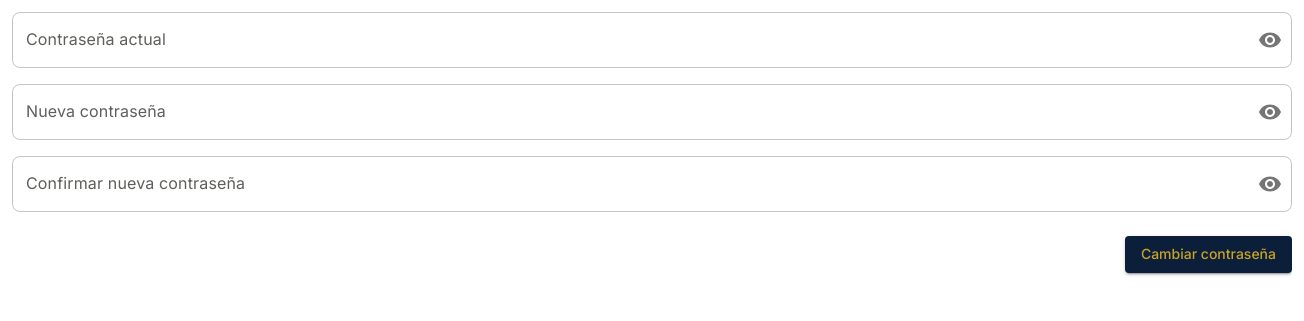
Scenario: ChangePasswordForm › form submission validation › should show validation error when new password is less than 8 characters
Type "OldPass123" into the password field labelled "Contraseña actual". click: (627, 40)
box: [12, 12, 1242, 68]
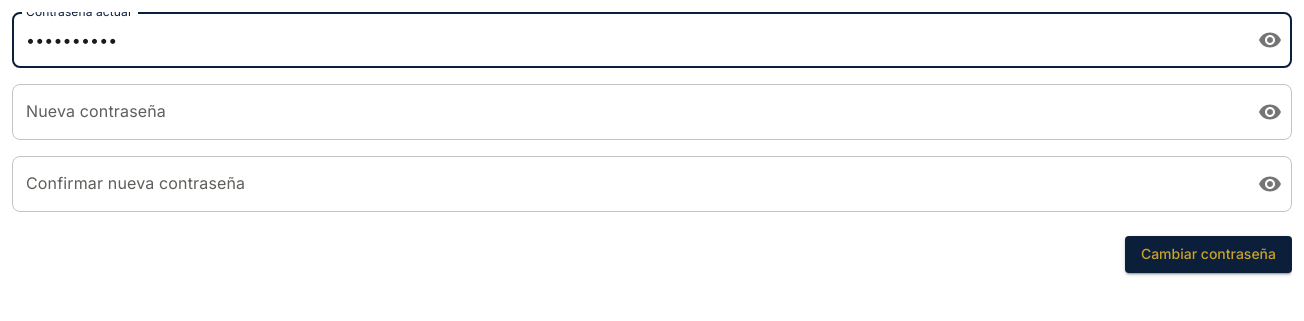
Type "Short1" into the password field labelled "Nueva contraseña". click: (627, 112)
box: [12, 84, 1242, 140]
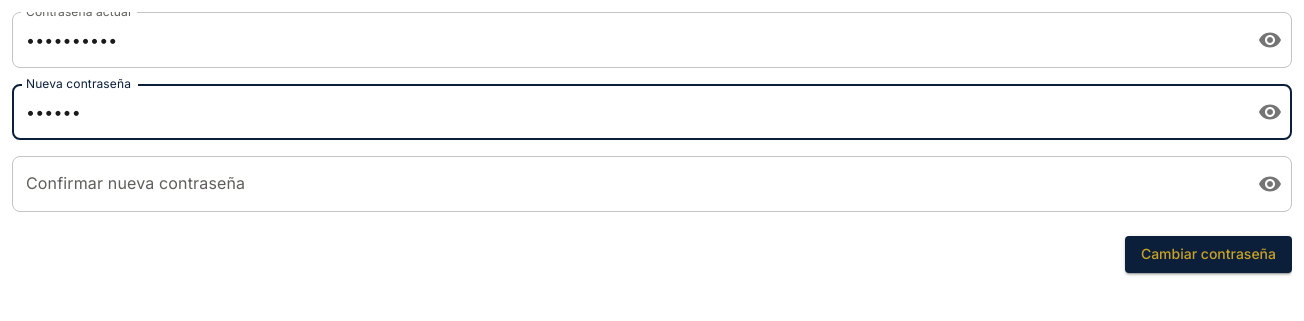
Type "Short1" into the password field labelled "Confirmar nueva contraseña". click: (627, 184)
box: [12, 156, 1242, 212]
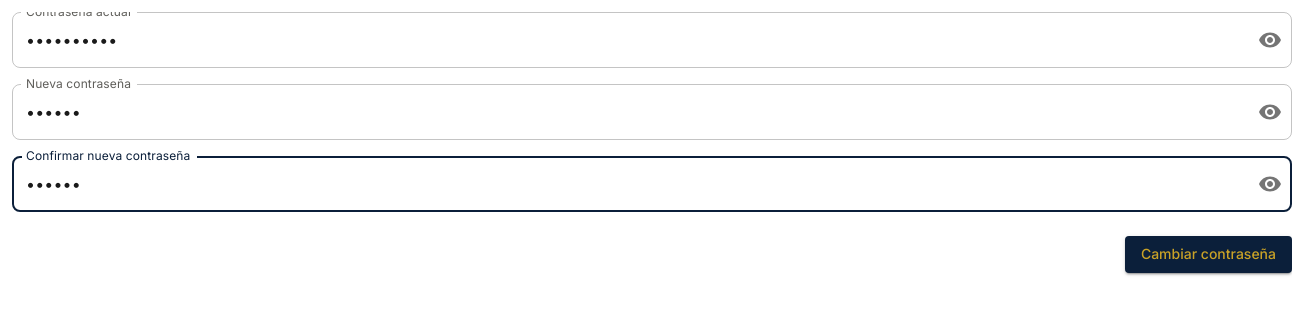
Click the button "Cambiar contraseña". click: (1208, 254)
box: [1125, 236, 1292, 272]
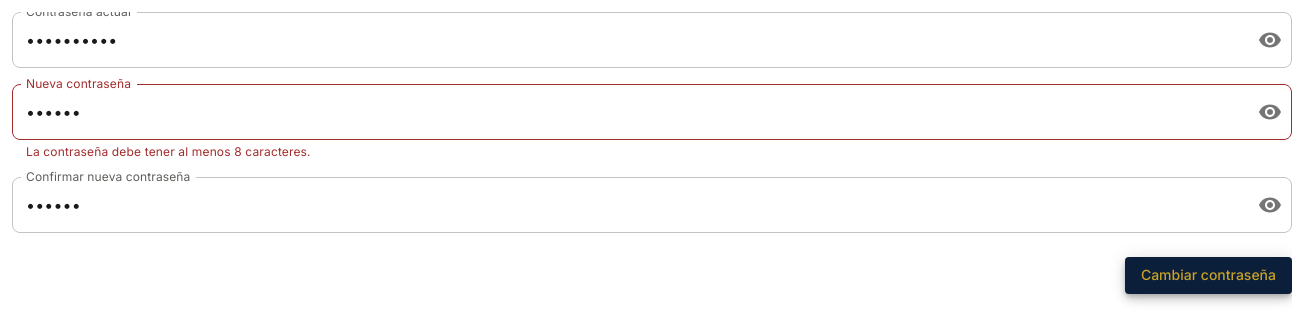
Now the text "La contraseña debe tener al menos 8 caracteres." is shown, box [26, 144, 311, 159]
